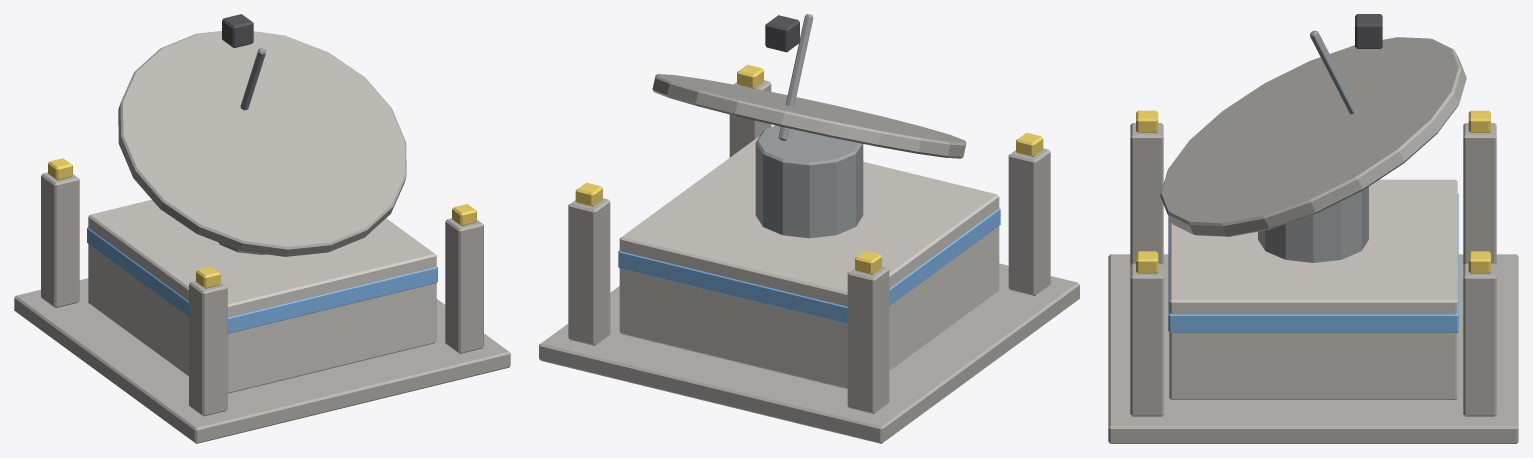
File: orbital_uplink.glb
The picture shows the model from 3 angles, left to right: view 1: azimuth 30°, elevation 25°; view 2: azimuth 150°, elevation 25°; view 3: azimuth 270°, elevation 25°; orthographic projection. The views are drawn at different scales.
Visible parts, largest first — view 1: orbital_uplink; view 2: orbital_uplink; view 3: orbital_uplink.
Boxes of the visible parts, bbox=[...] form: orbital_uplink: bbox=[14, 14, 510, 443]; orbital_uplink: bbox=[539, 14, 1079, 443]; orbital_uplink: bbox=[1108, 14, 1518, 443].
Bounding box in the file's own units: 3.7 × 3.38 × 3.7.
